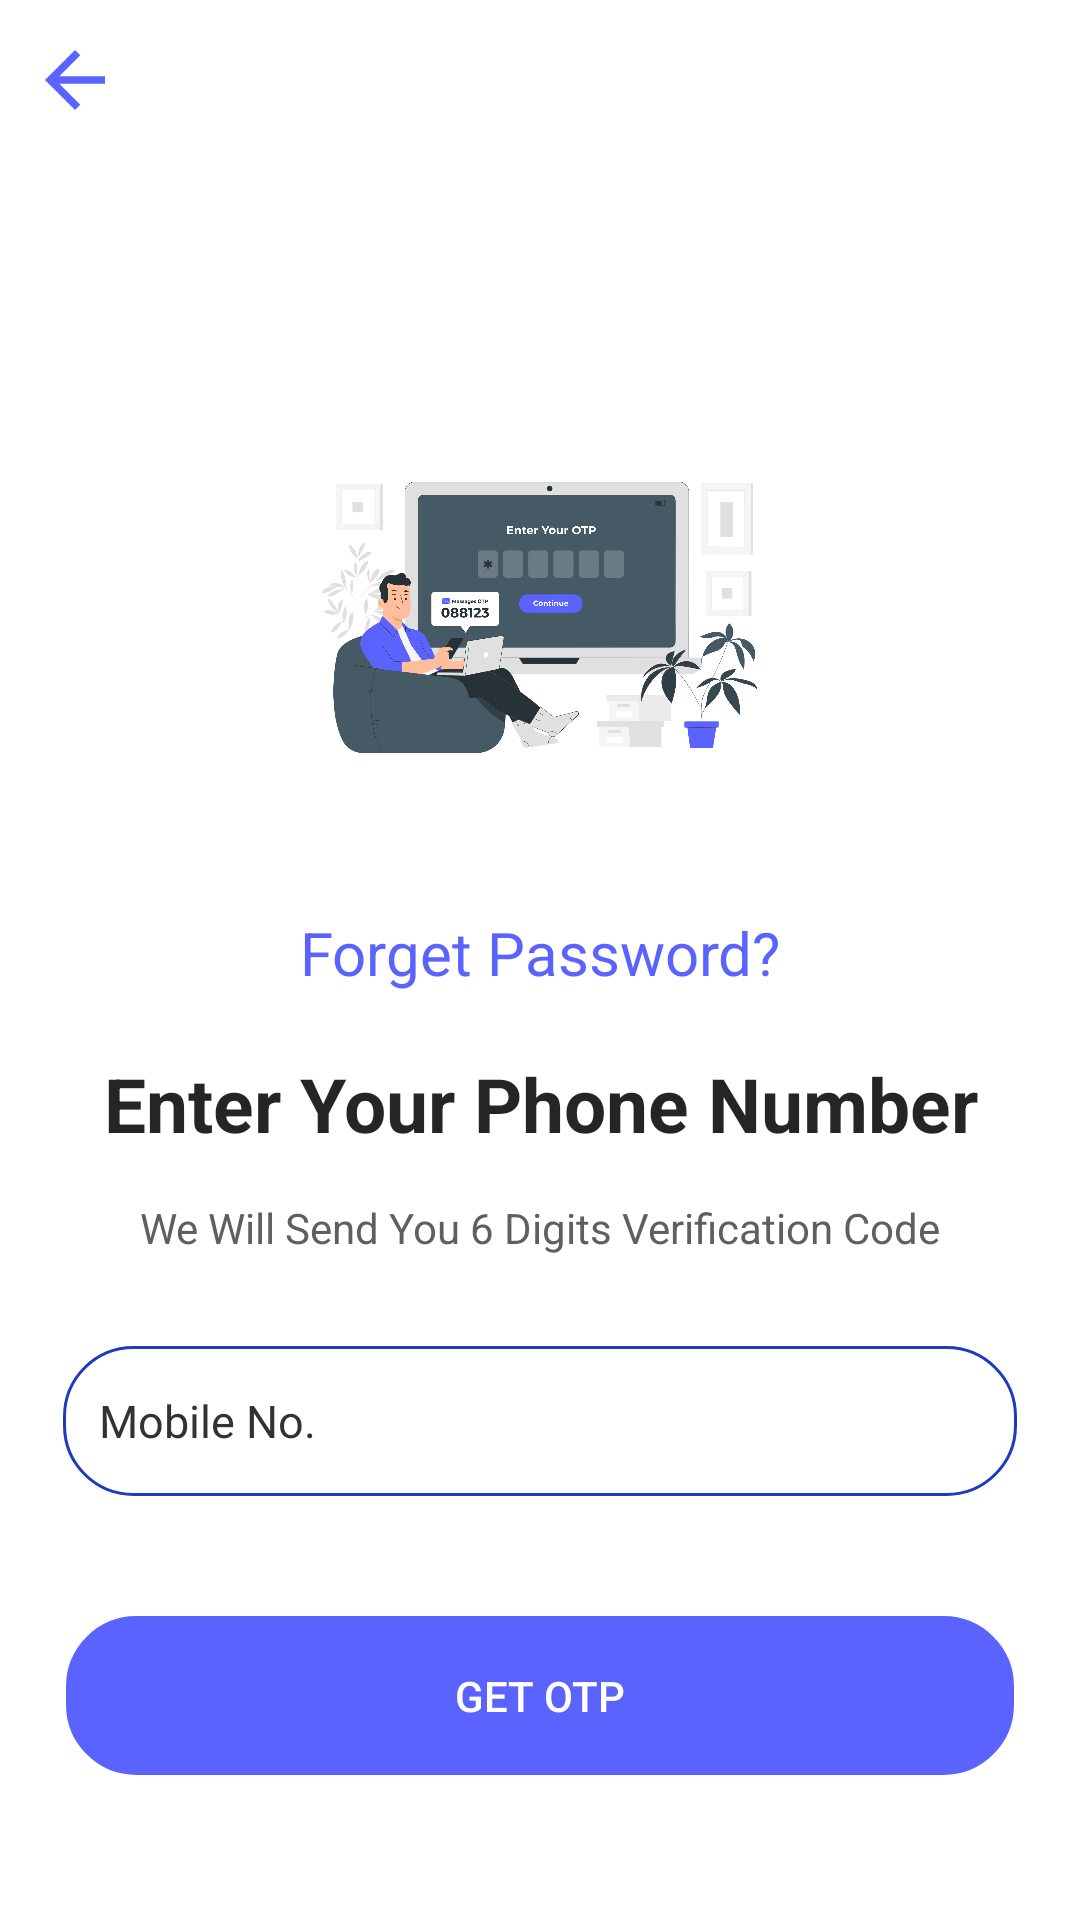

Icon bounding boxes for this 1080 x 1920 phone screenshot, format bbox(x1, y1, x2, y2):
back: bbox(45, 50, 105, 110)
